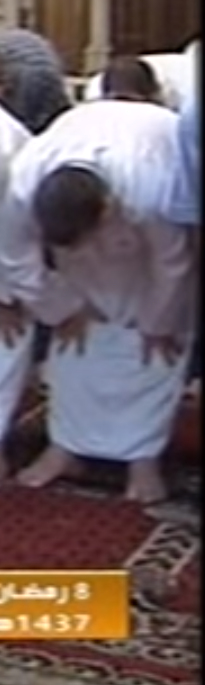ruku: (5, 67, 205, 552)
